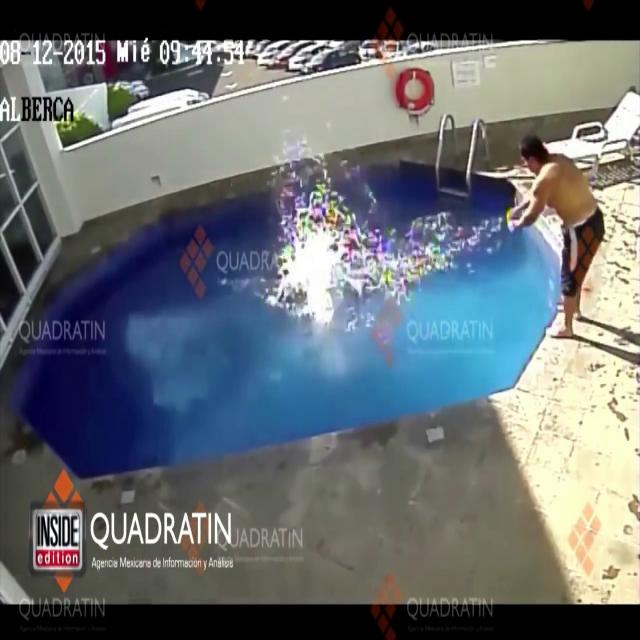adult: (510, 134, 604, 343)
